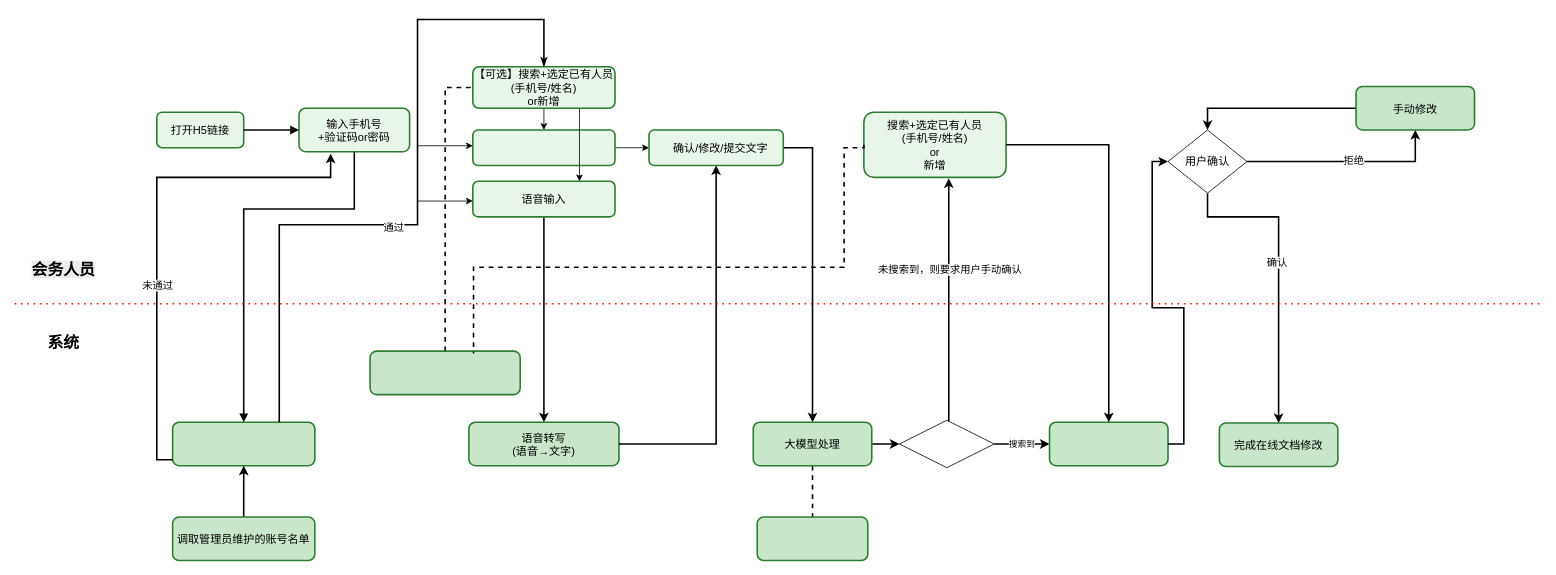
This 1556x575 diagram has some shape labels left out. Here are the shapes that lost their labels. From the top down, the box of each, then its label:
(472, 129, 615, 166): 手动文字输入
(369, 350, 521, 395): 在线表格数据检索、返回top5
(171, 421, 315, 466): 校验身份
(899, 419, 994, 468): 是否搜索到修改对象
(1048, 421, 1168, 466): 大模型给出 参会信息修改方案
(756, 516, 868, 561): 在线表格数据检索
